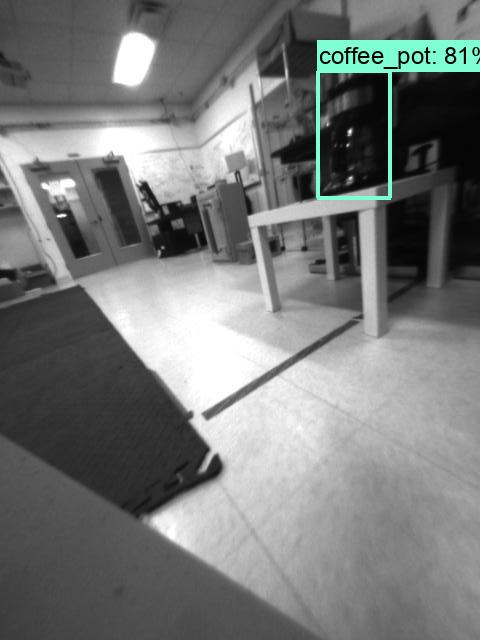coffee_pot: (316, 69, 395, 192)
